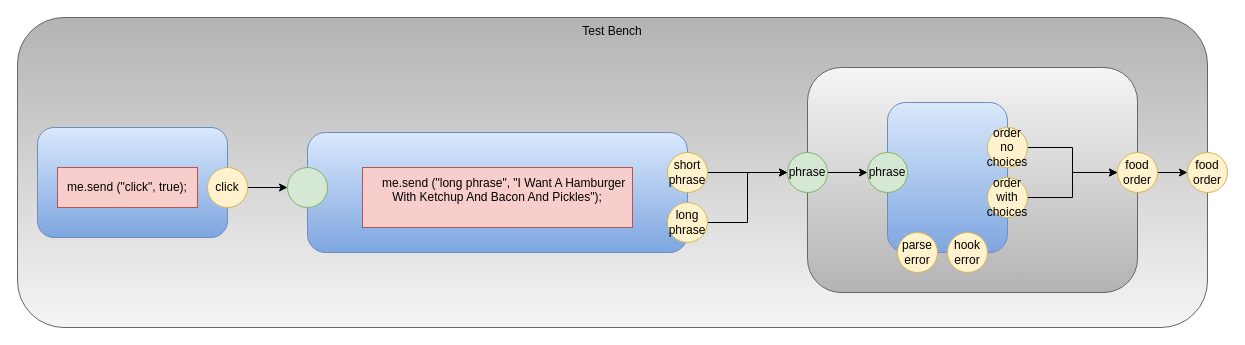
This 1245x345 diagram has some shape labels left out. Here are the shapes that lost their labels. From the top down, the box of each, then its label:
(36, 126, 228, 238): HTML Button
(286, 166, 328, 208): go
(306, 132, 688, 252): Phrase Faker
(886, 102, 1008, 252): Phrase Parser
(806, 66, 1138, 292): Order Taker
